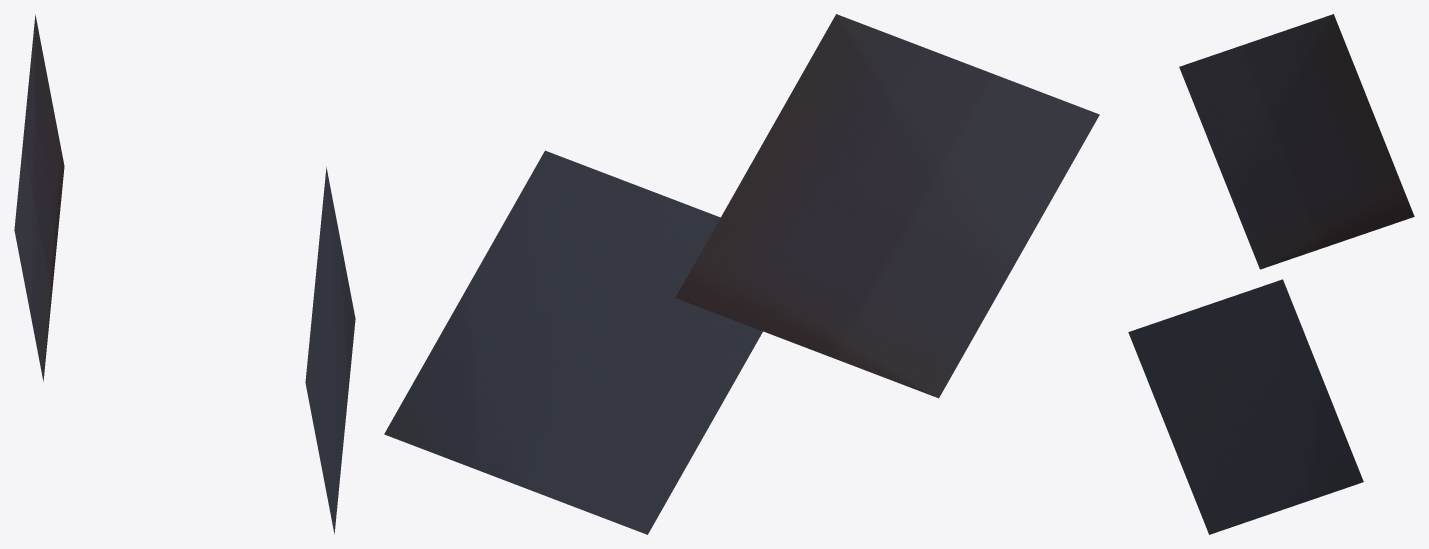
The model's file is icon_hibernate_blue.glb.
The picture shows the model from 3 angles, left to right: view 1: azimuth 30°, elevation 25°; view 2: azimuth 150°, elevation 25°; view 3: azimuth 270°, elevation 25°; orthographic projection. The views are drawn at different scales.
Visible parts, largest first — view 1: icon_hibernate_blue; view 2: icon_hibernate_blue; view 3: icon_hibernate_blue.
Boxes of the visible parts, x1,y1,x2,y2 form: icon_hibernate_blue: [14, 14, 355, 534]; icon_hibernate_blue: [384, 14, 1099, 534]; icon_hibernate_blue: [1128, 14, 1414, 534].
Bounding box in the file's own units: 2.59 × 2.85 × 1.72.
Materials: 1 (1 with a texture image).
